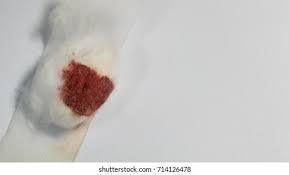cotton: (0, 0, 139, 160)
